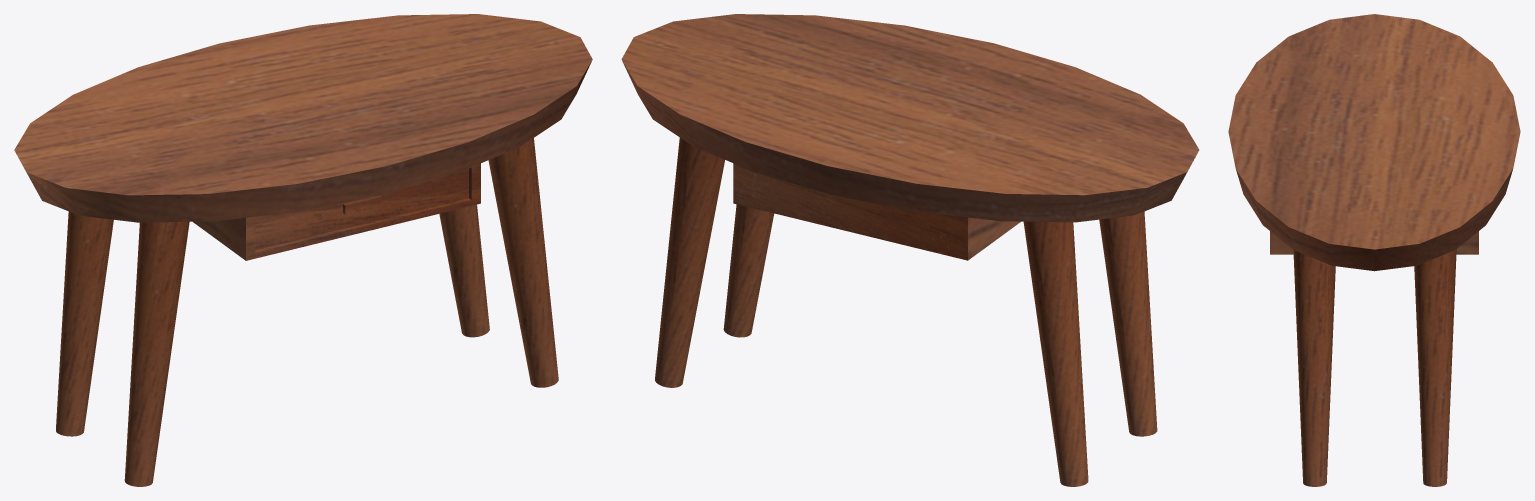
Rendered from desk.fbx.
The picture shows the model from 3 angles, left to right: view 1: azimuth 30°, elevation 25°; view 2: azimuth 150°, elevation 25°; view 3: azimuth 270°, elevation 25°; orthographic projection. The views are drawn at different scales.
Visible parts, largest first — view 1: pCylinder8; view 2: pCylinder8; view 3: pCylinder8.
Part boxes in pixels (x1,y1,x2,y2): pCylinder8: [14, 14, 592, 486]; pCylinder8: [621, 14, 1199, 486]; pCylinder8: [1228, 14, 1520, 486].
Bounding box in the file's own units: 3.82 × 2 × 2.
